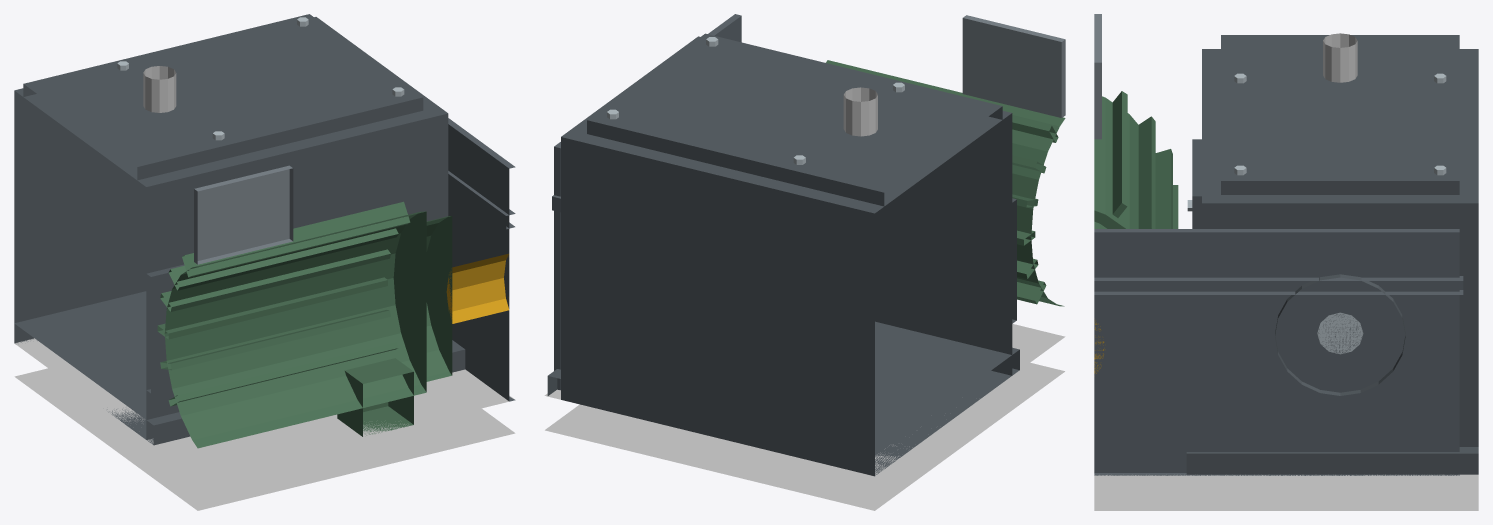
Rendered from cell_4.obj.
The picture shows the model from 3 angles, left to right: view 1: azimuth 30°, elevation 25°; view 2: azimuth 150°, elevation 25°; view 3: azimuth 270°, elevation 25°; orthographic projection. The views are drawn at different scales.
Bounding box in the file's own units: 1 × 1 × 1.
